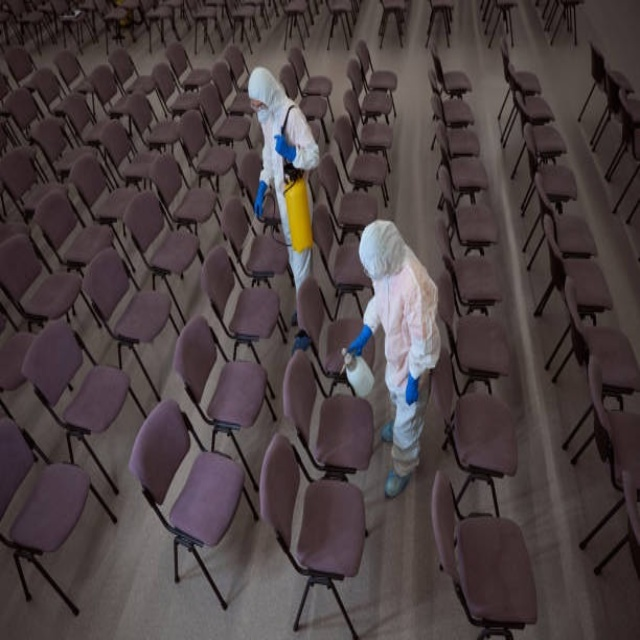Gafas: (248, 96, 270, 113)
Guantes: (347, 326, 372, 357), (274, 133, 296, 163), (254, 181, 267, 218), (405, 373, 419, 406)
